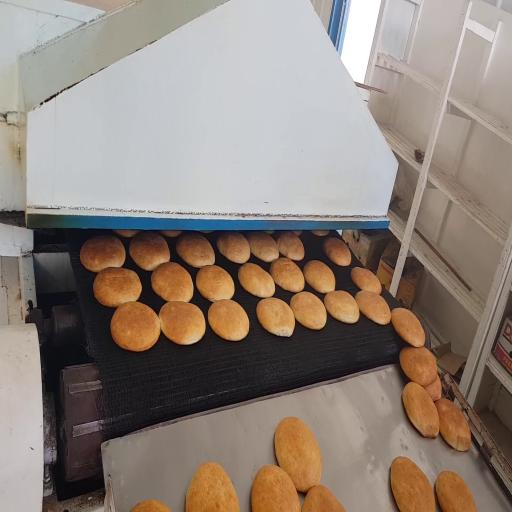bread: (275, 417, 321, 492), (186, 462, 239, 511), (111, 302, 160, 351), (391, 457, 435, 511), (251, 465, 300, 511), (402, 382, 439, 437), (159, 302, 205, 345), (93, 267, 142, 307), (435, 399, 470, 451), (208, 300, 249, 340), (151, 262, 193, 301), (80, 236, 125, 272), (436, 471, 476, 511), (129, 232, 170, 270), (257, 298, 295, 337), (400, 347, 437, 386), (196, 266, 234, 301), (291, 292, 326, 329), (238, 263, 275, 298), (176, 233, 214, 267), (392, 308, 425, 347), (355, 290, 390, 325), (270, 257, 304, 292), (324, 291, 359, 323), (302, 485, 345, 511), (303, 260, 335, 293), (217, 232, 250, 263), (247, 232, 278, 262), (351, 267, 381, 294), (323, 238, 351, 266), (277, 232, 304, 260), (424, 375, 442, 401), (131, 500, 170, 511), (113, 229, 140, 237), (160, 230, 182, 237), (312, 230, 329, 236), (293, 230, 302, 236), (264, 230, 275, 234), (200, 230, 213, 233)
